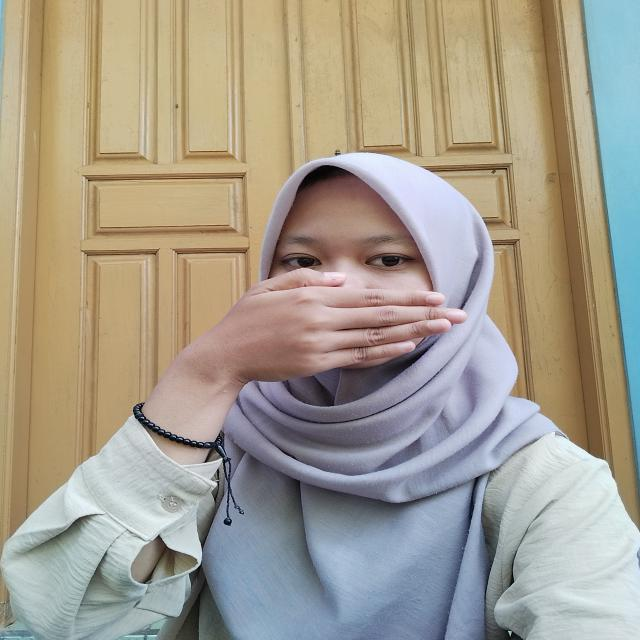buruk: (148, 267, 470, 413)
